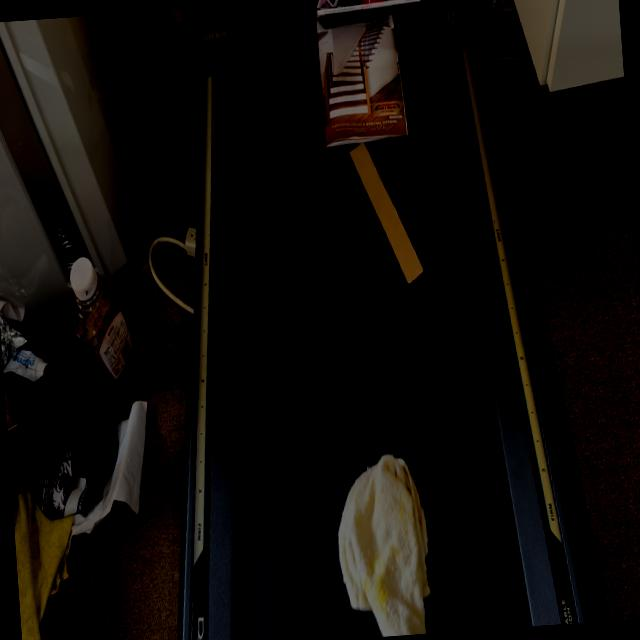Recycle: (328, 452, 438, 636), (313, 8, 411, 149), (343, 138, 430, 292)
